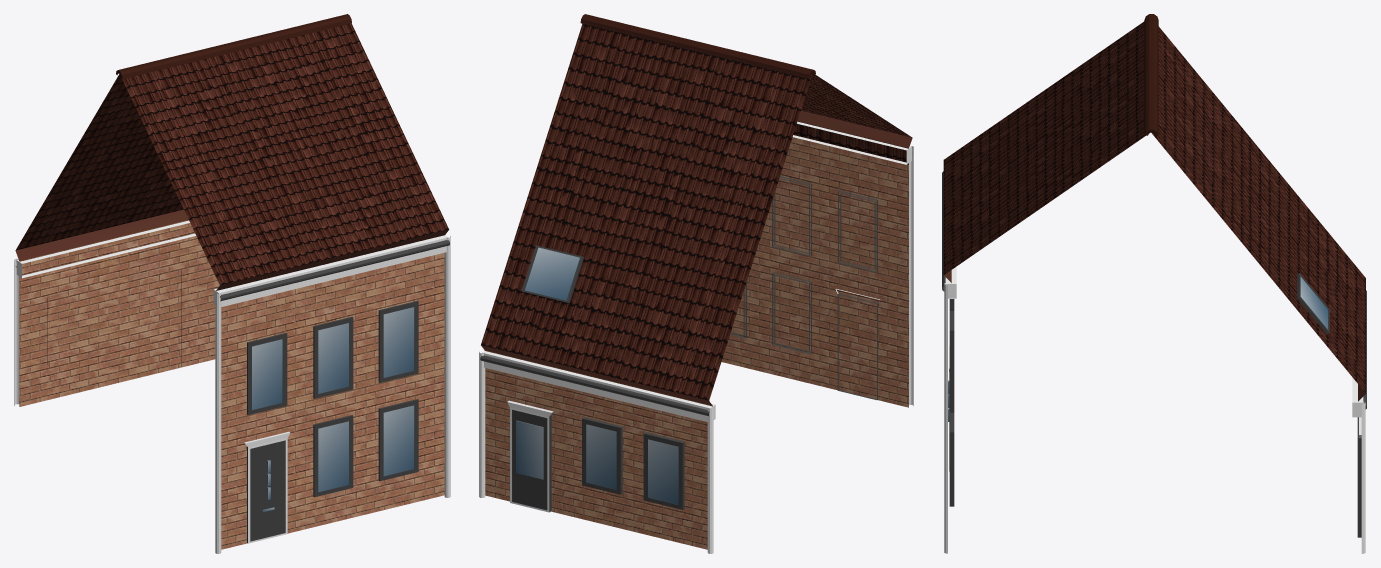
Rendered from It_Buthus_5.fbx.
3 views of the same model, side by side, from view 1: azimuth 30°, elevation 25°; view 2: azimuth 150°, elevation 25°; view 3: azimuth 270°, elevation 25° (orthographic). The views are drawn at different scales.
Parts seen in each view (by area): view 1: It_Buthus_5; view 2: It_Buthus_5; view 3: It_Buthus_5.
Boxes of the visible parts, box(x1,y1,x2,y2) form: It_Buthus_5: box(14, 14, 450, 553); It_Buthus_5: box(479, 14, 913, 553); It_Buthus_5: box(942, 14, 1366, 553).
Bounding box in the file's own units: 619 × 1031 × 939.
